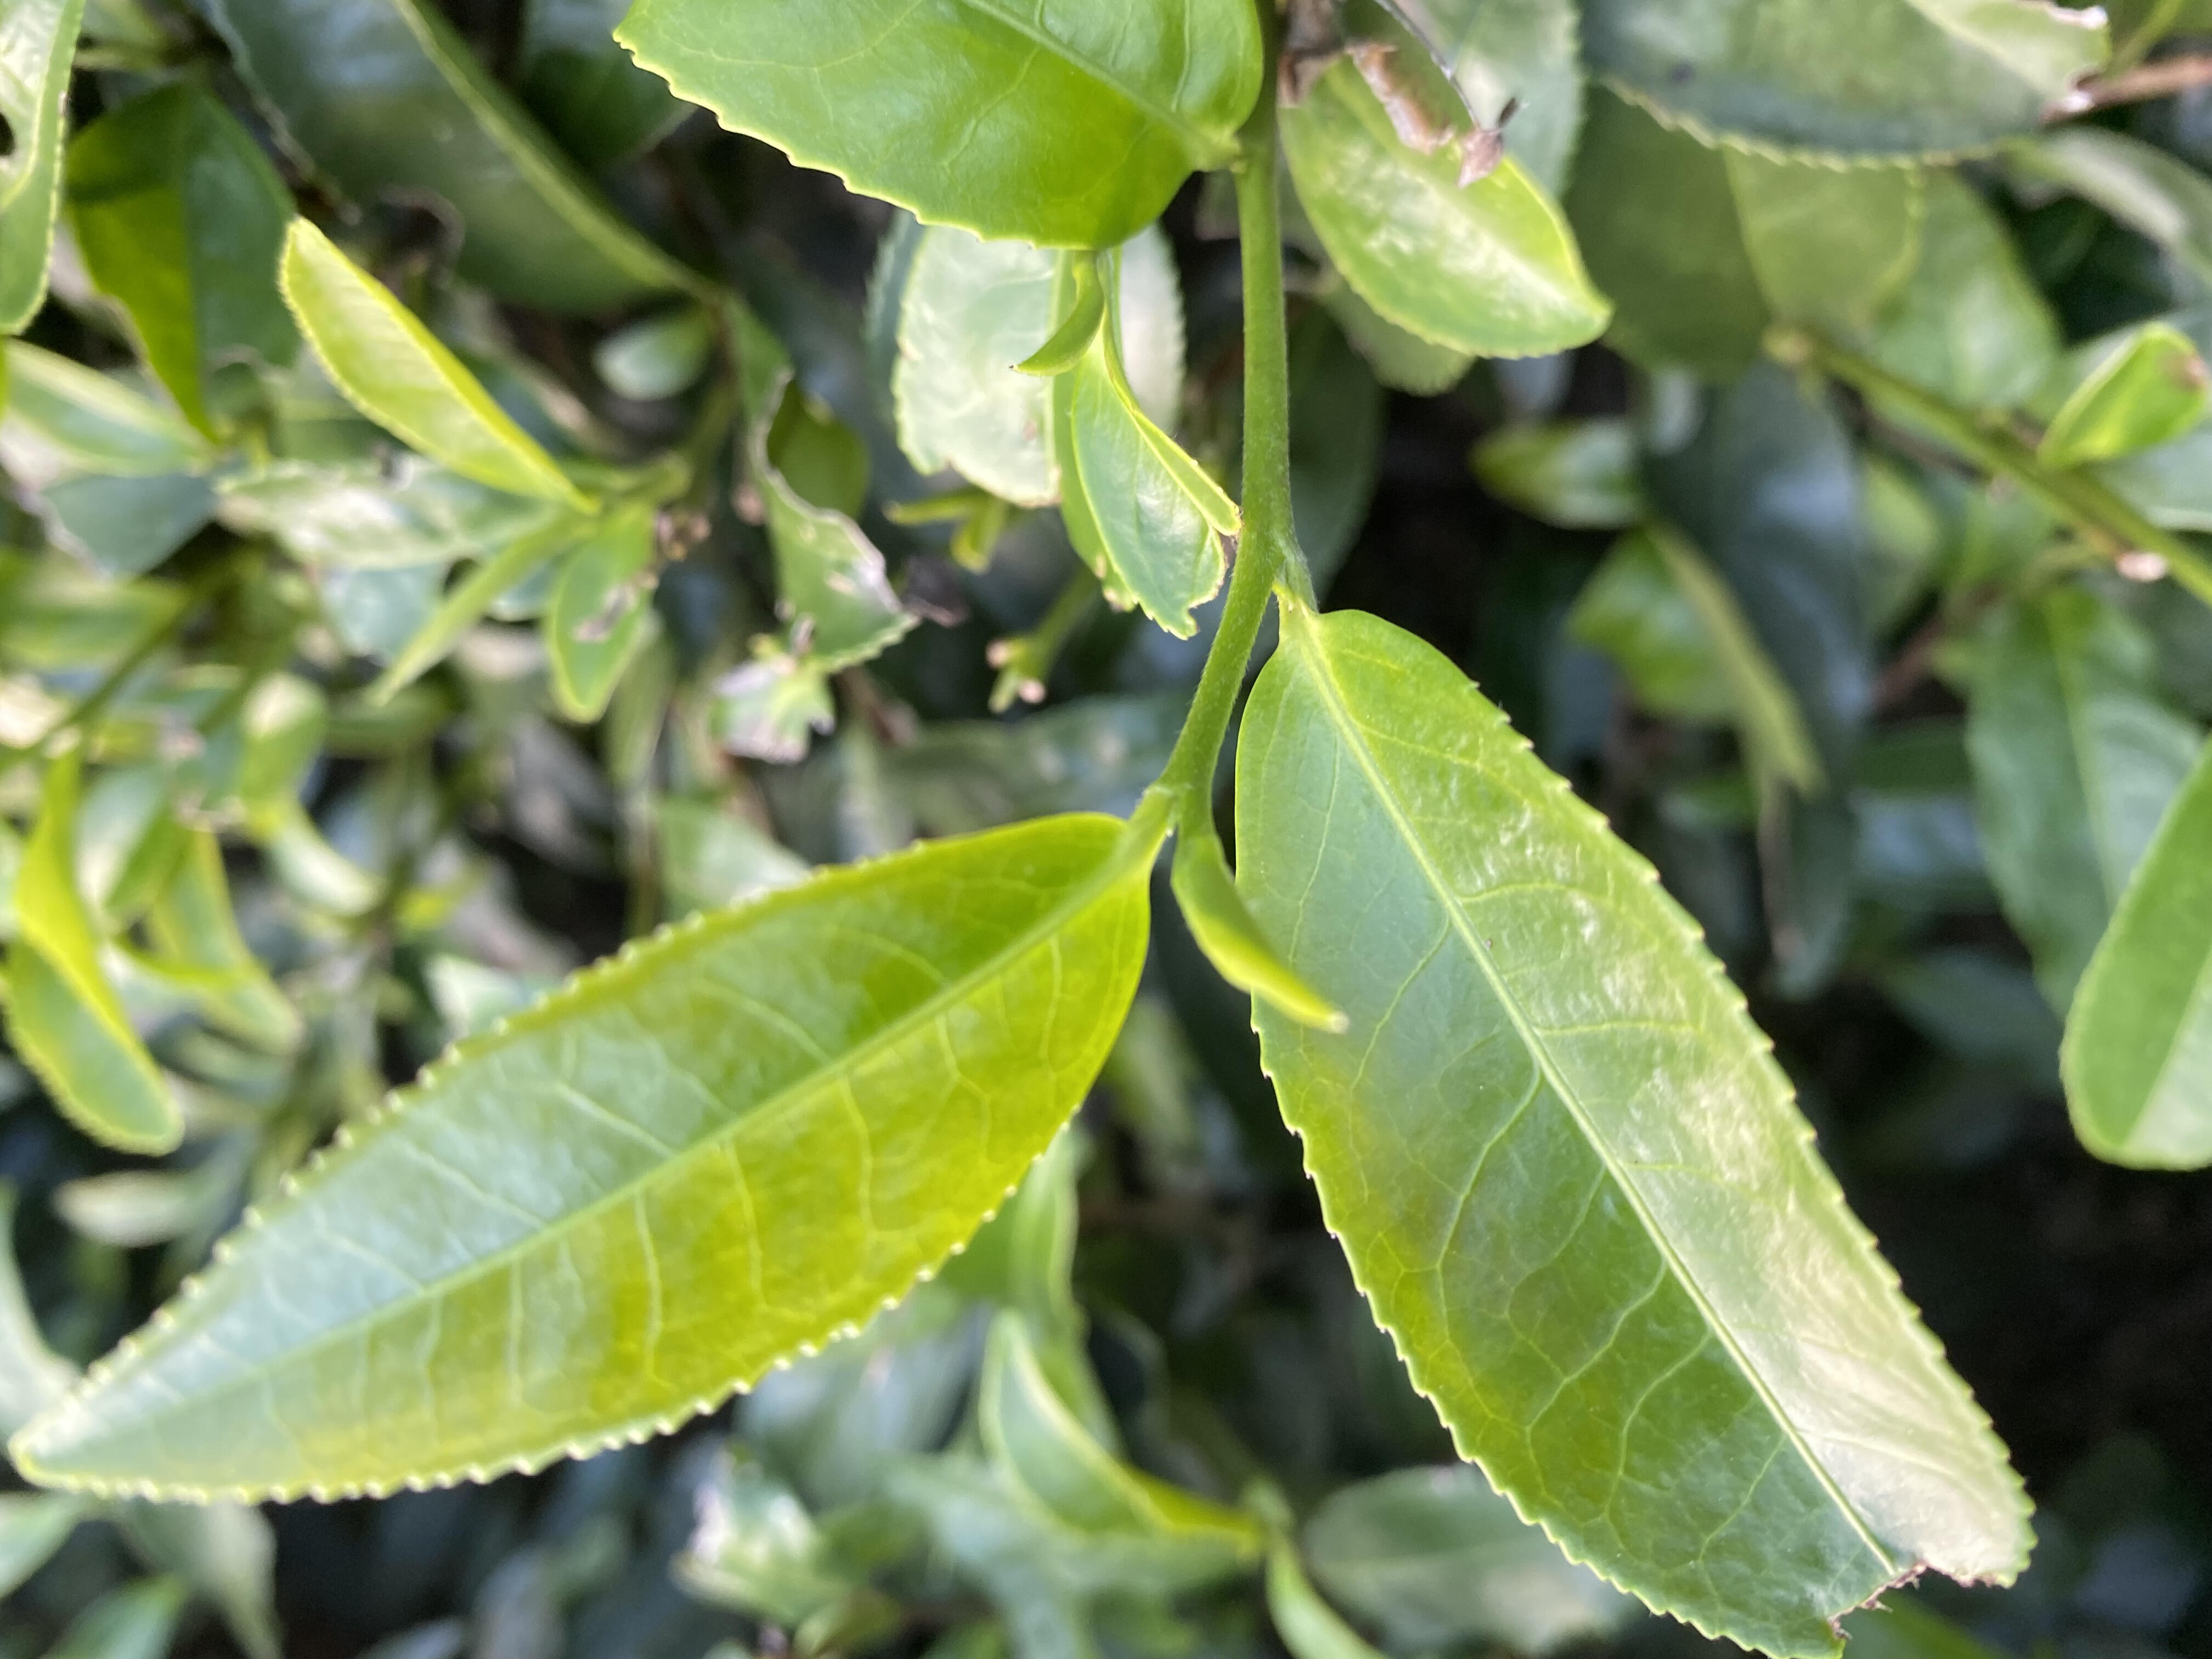chihuo_low: (1231, 610, 2040, 1659)
healthy: (5, 812, 1155, 1514)
